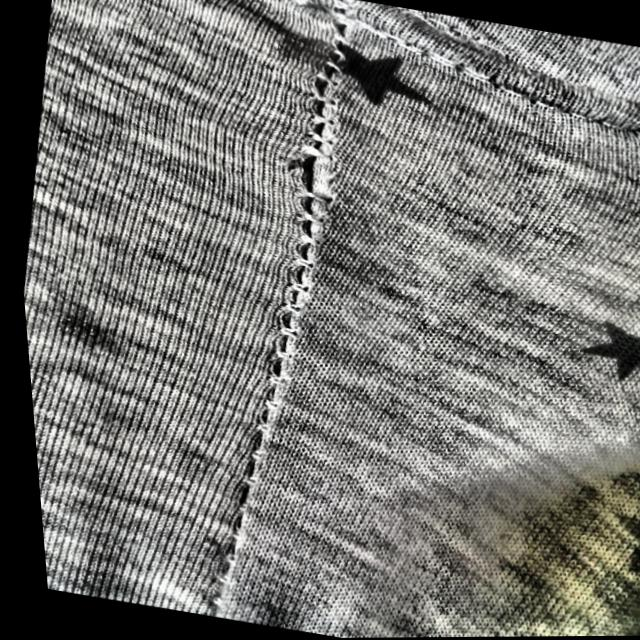Stitch: (222, 73, 388, 263)
